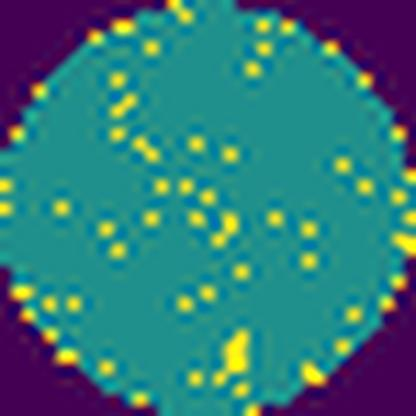Loc: (215, 326, 252, 388)
